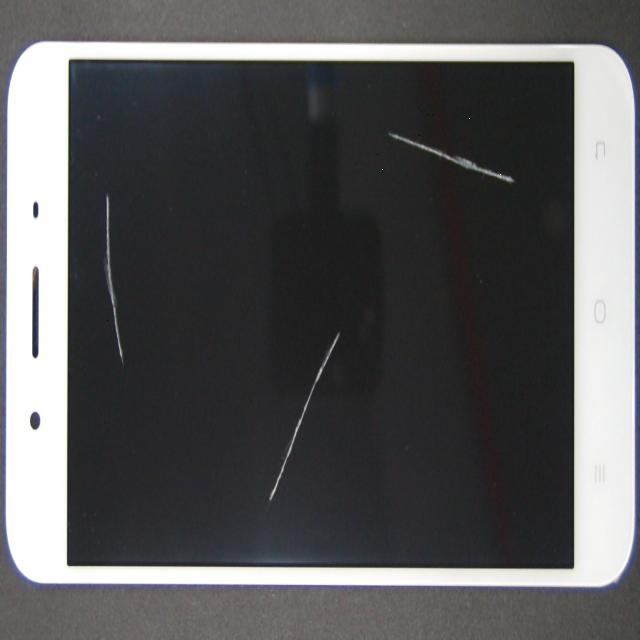scratch: (187, 162, 529, 482), (257, 102, 640, 307), (71, 83, 174, 237)
